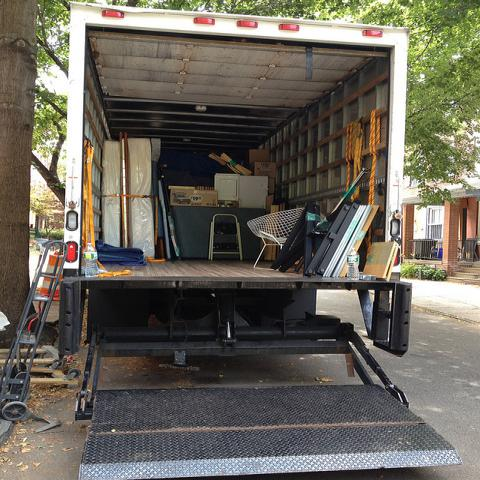truck: (59, 0, 459, 475)
